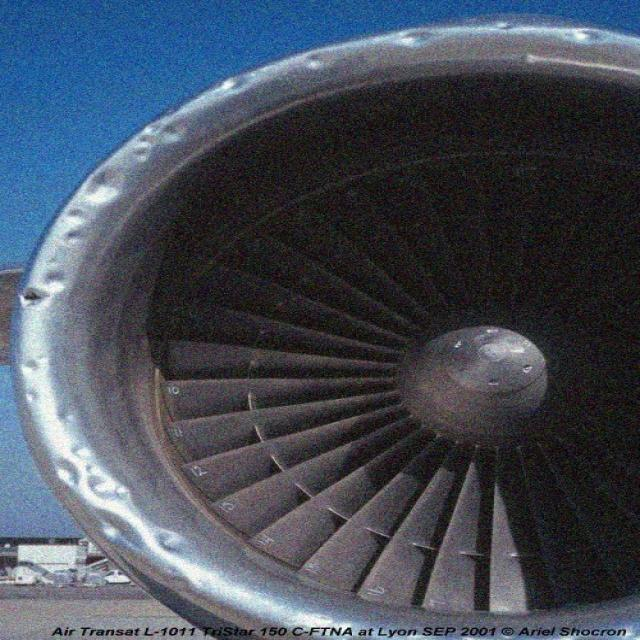dent: (46, 448, 199, 595), (34, 161, 126, 296)
